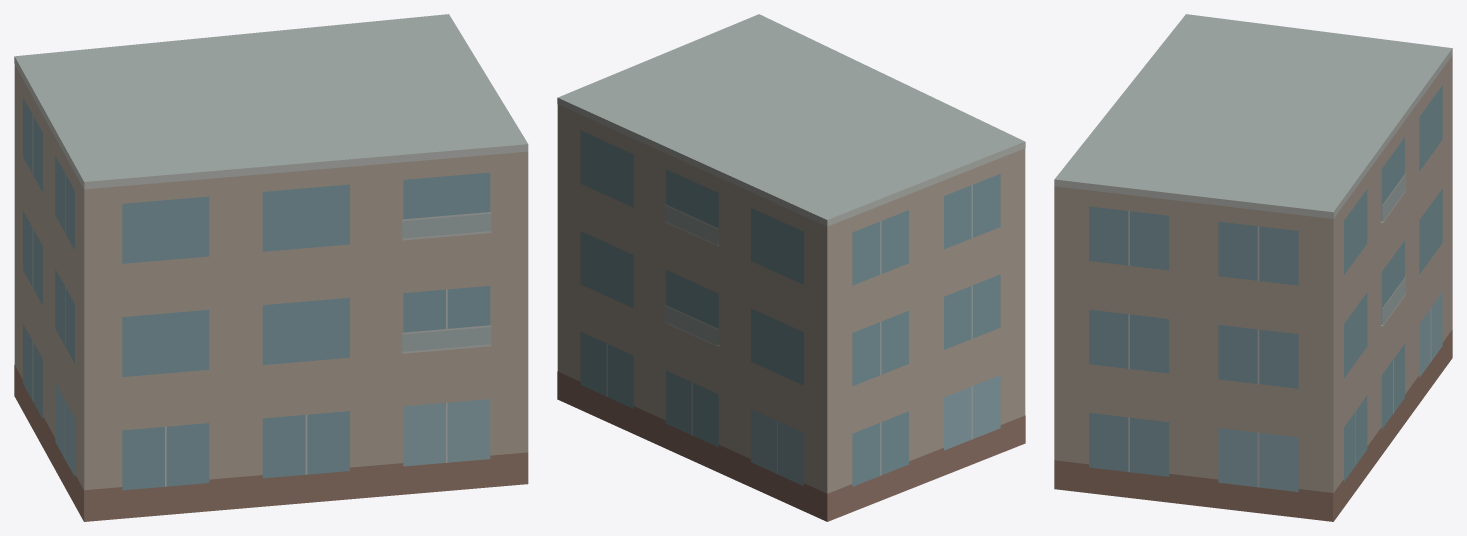
File: survey-upis-32742321.glb
3 renders of one model, left to right at view 1: azimuth 30°, elevation 25°; view 2: azimuth 150°, elevation 25°; view 3: azimuth 270°, elevation 25°, orthographic. The views are drawn at different scales.
Parts seen in each view (by area): view 1: survey-upis-32742321.tmp; view 2: survey-upis-32742321.tmp; view 3: survey-upis-32742321.tmp.
Part boxes in pixels (x1,y1,x2,y2): survey-upis-32742321.tmp: [14, 14, 528, 521]; survey-upis-32742321.tmp: [557, 14, 1025, 521]; survey-upis-32742321.tmp: [1054, 14, 1452, 521].
Bounding box in the file's own units: 15.39 × 11.2 × 13.07.
